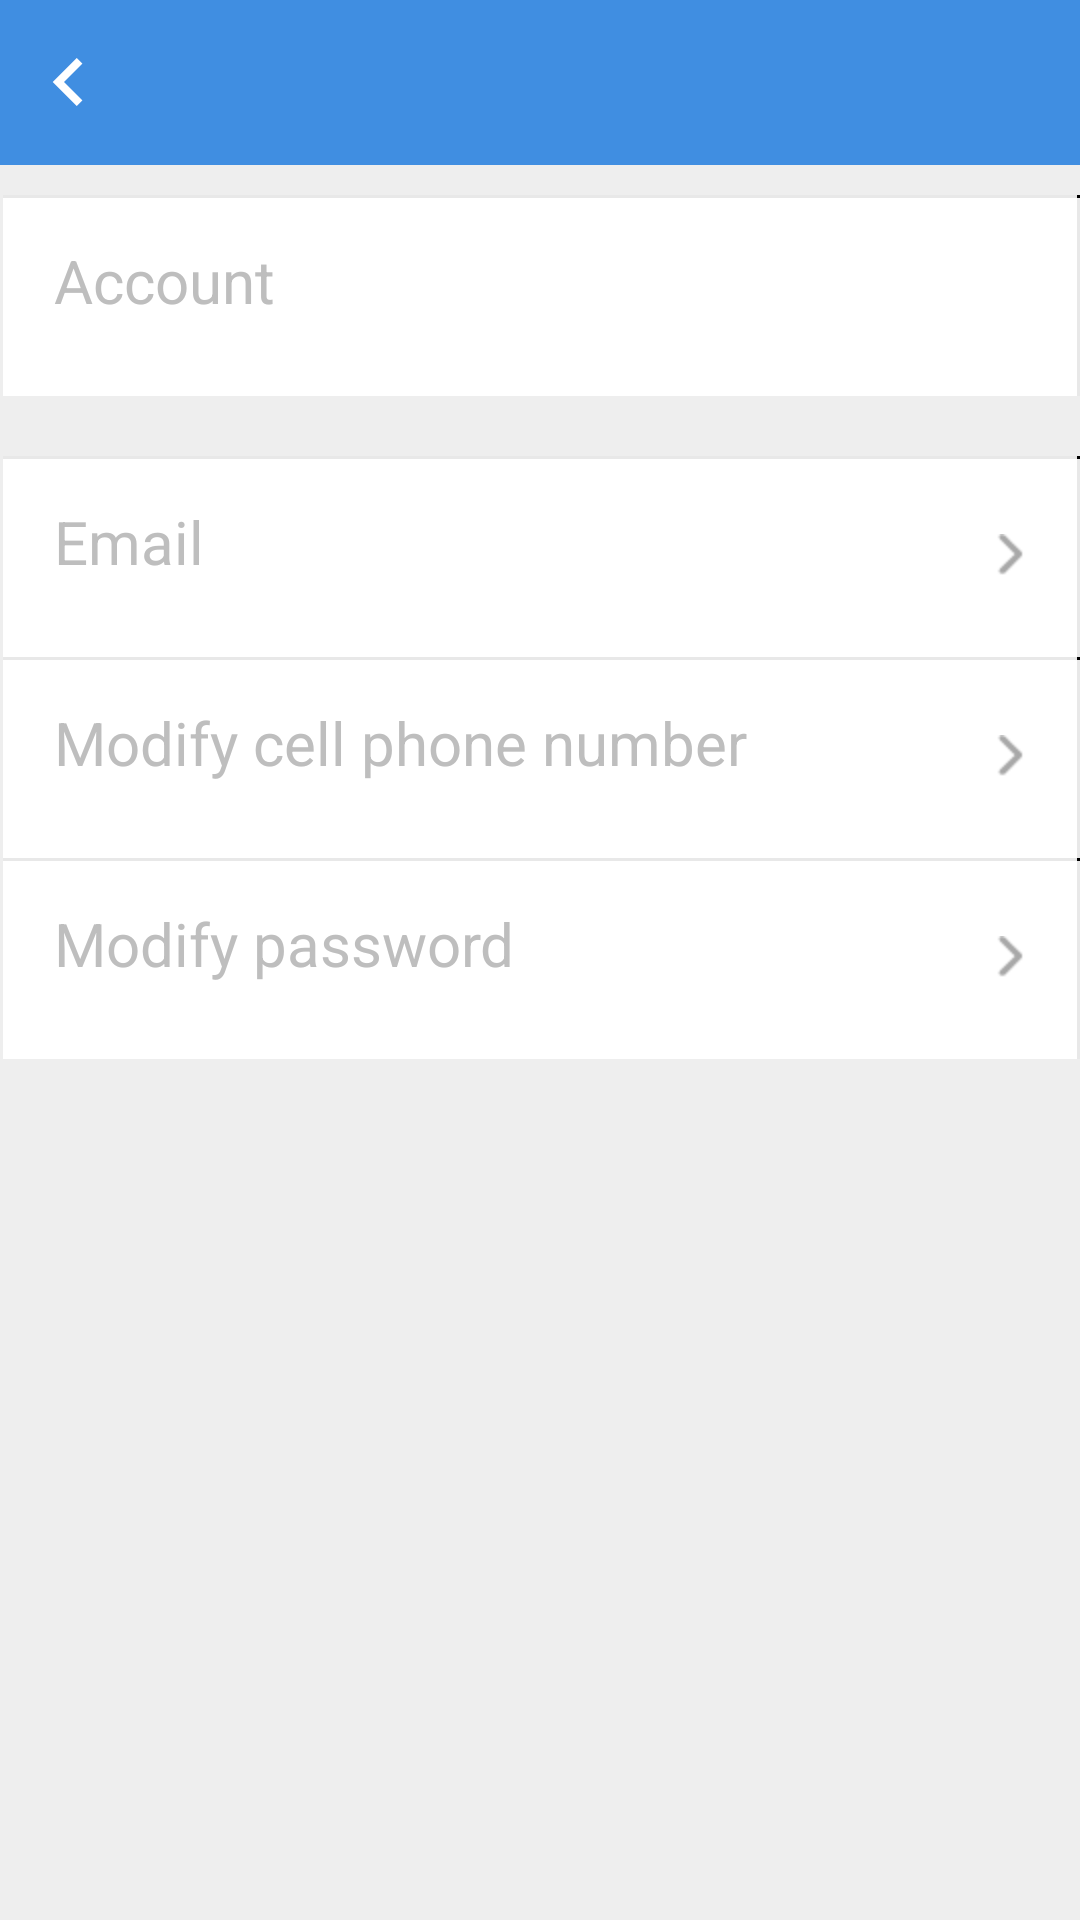

Screen size 1080x1920. Icon name, then its box in pixels as (x1, y1, x2, y2):
back: (53, 58, 83, 106)
forward: (999, 534, 1022, 574), (999, 735, 1022, 775), (999, 936, 1022, 976)
